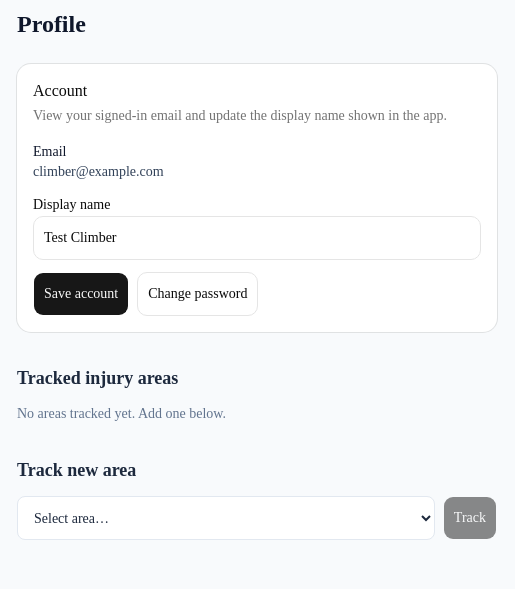
Test: ProfilePage › saves an updated display name
Replace the text in the field labelled "Display name" with "Updated Name": (257, 238) [33,216,481,260]
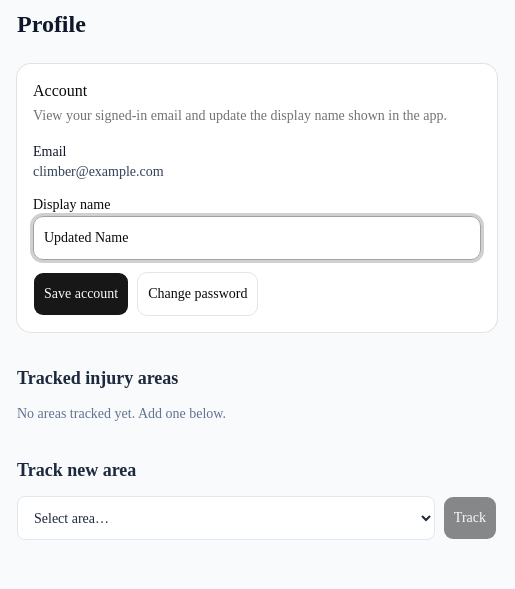
Click the button "Save account": (81, 294) [33,272,129,316]
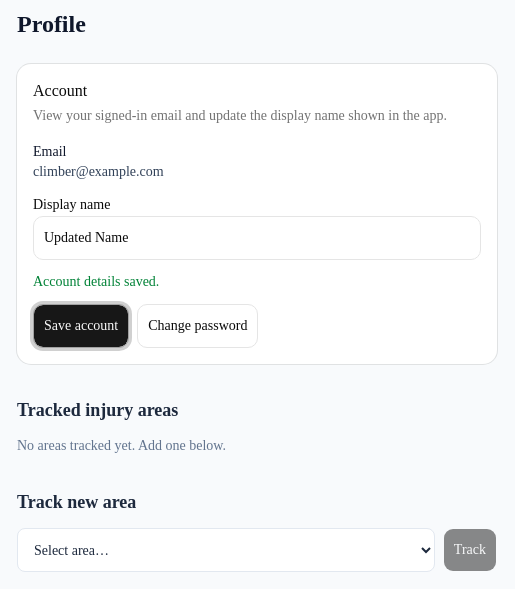
expect the message reads "Account details saved.": met, box [33,274,159,289]
